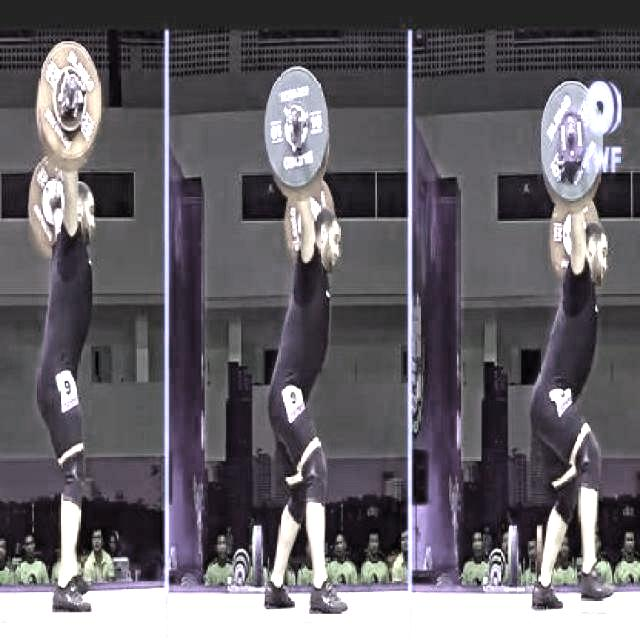barbell: (539, 65, 615, 218), (261, 60, 335, 212), (35, 32, 103, 166)
